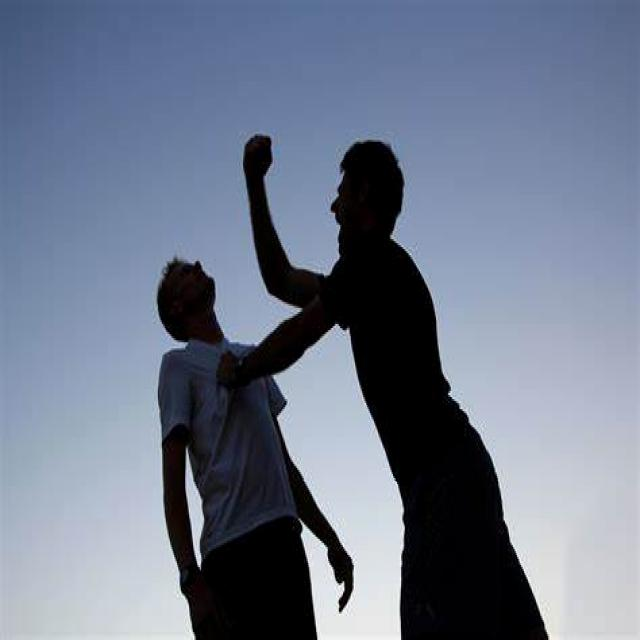fight: (125, 86, 528, 496)
